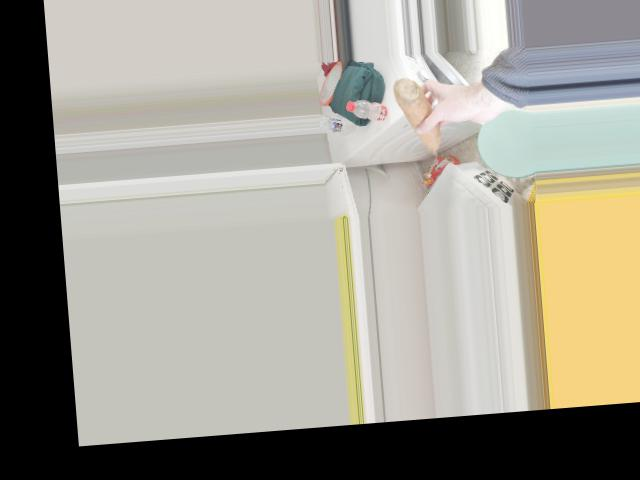sweet_potato: (390, 79, 448, 152)
